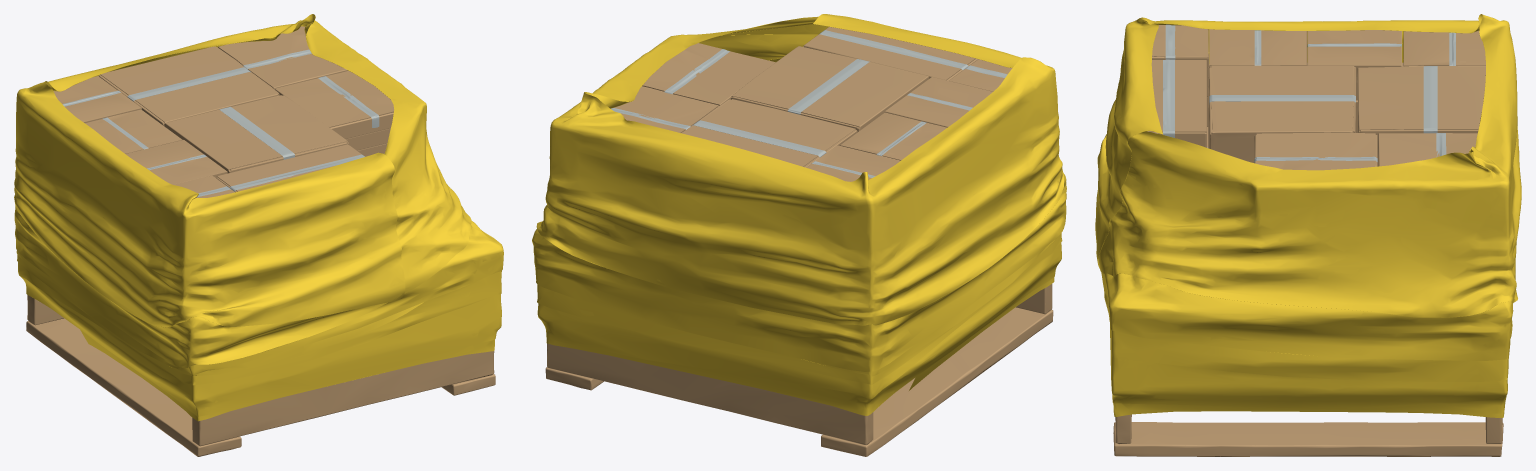
Rendered from pallet_assembly_yellow_a01.glb.
3 views of the same model, side by side, from view 1: azimuth 30°, elevation 25°; view 2: azimuth 150°, elevation 25°; view 3: azimuth 270°, elevation 25° (orthographic). The views are drawn at different scales.
Size of the model in its own units: 0.6652 by 0.4999 by 0.6602.
